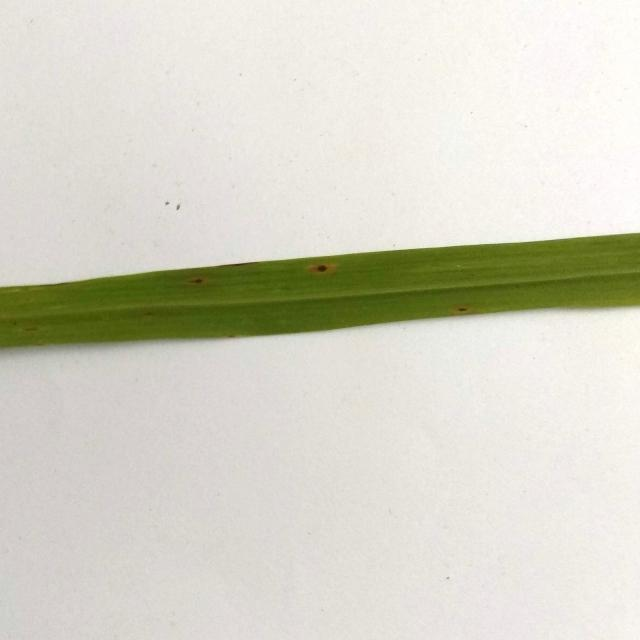Brown spot: (310, 254, 348, 284), (180, 270, 218, 294)
